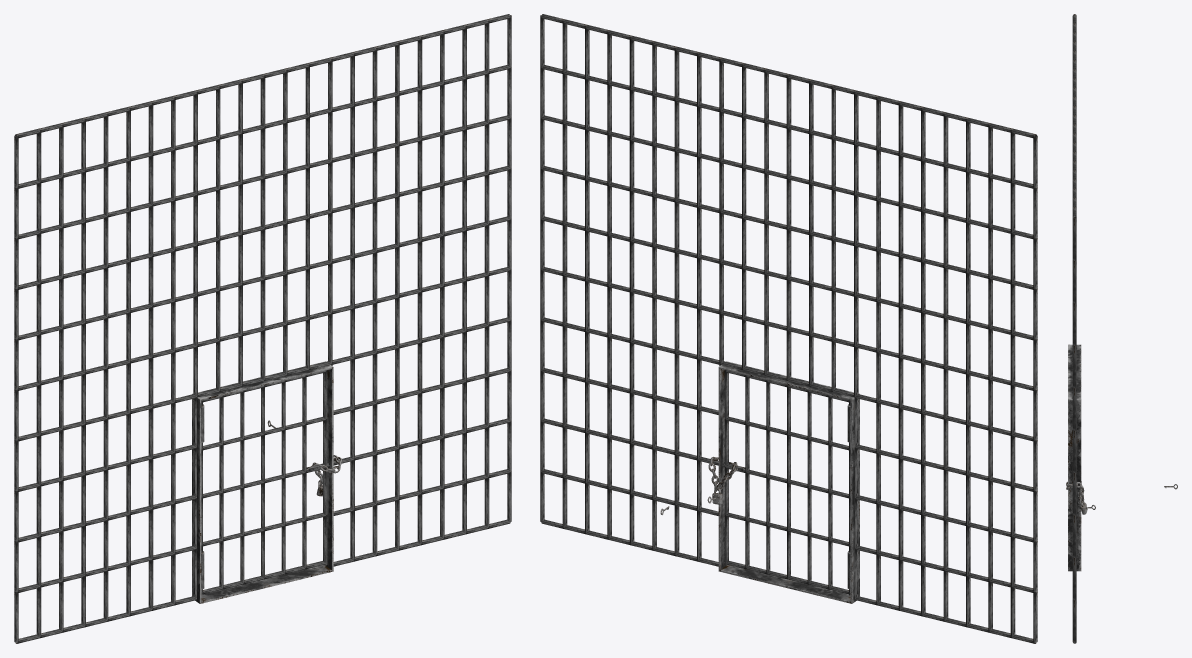
Rendered from door_lock_key.fbx.
3 renders of one model, left to right at view 1: azimuth 30°, elevation 25°; view 2: azimuth 150°, elevation 25°; view 3: azimuth 270°, elevation 25°, orthographic. The views are drawn at different scales.
Parts seen in each view (by area): view 1: Cylinder, Cylinder.002, Cube.004; view 2: Cylinder, Cylinder.002, Cube.004; view 3: Cylinder, Cube.004.
Boxes of the visible parts, box(x1,y1,x2,y2) form: Cylinder: box(14, 14, 511, 643); Cylinder.002: box(201, 370, 327, 595); Cube.004: box(192, 361, 333, 603); Cylinder: box(540, 14, 1037, 643); Cylinder.002: box(724, 370, 850, 595); Cube.004: box(718, 361, 859, 603); Cylinder: box(1072, 14, 1076, 643); Cube.004: box(1068, 344, 1081, 571).
Size of the model in its own units: 905 by 888 by 210.
1 material, 1 textured.
